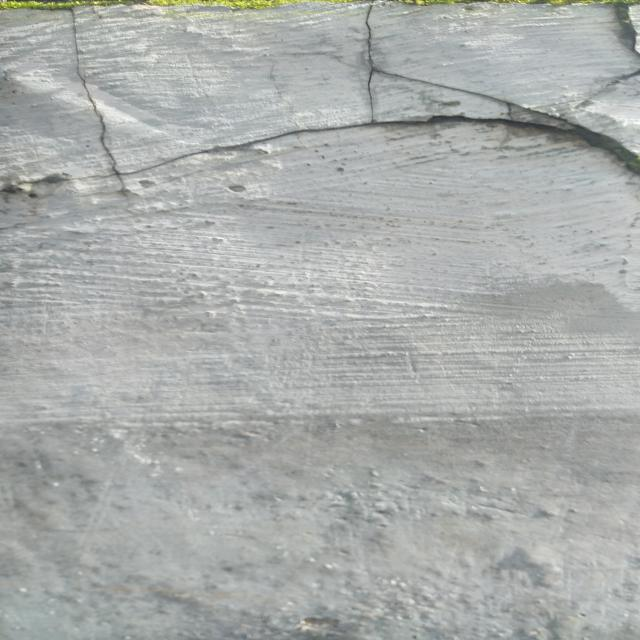Crack: (5, 9, 640, 198)
